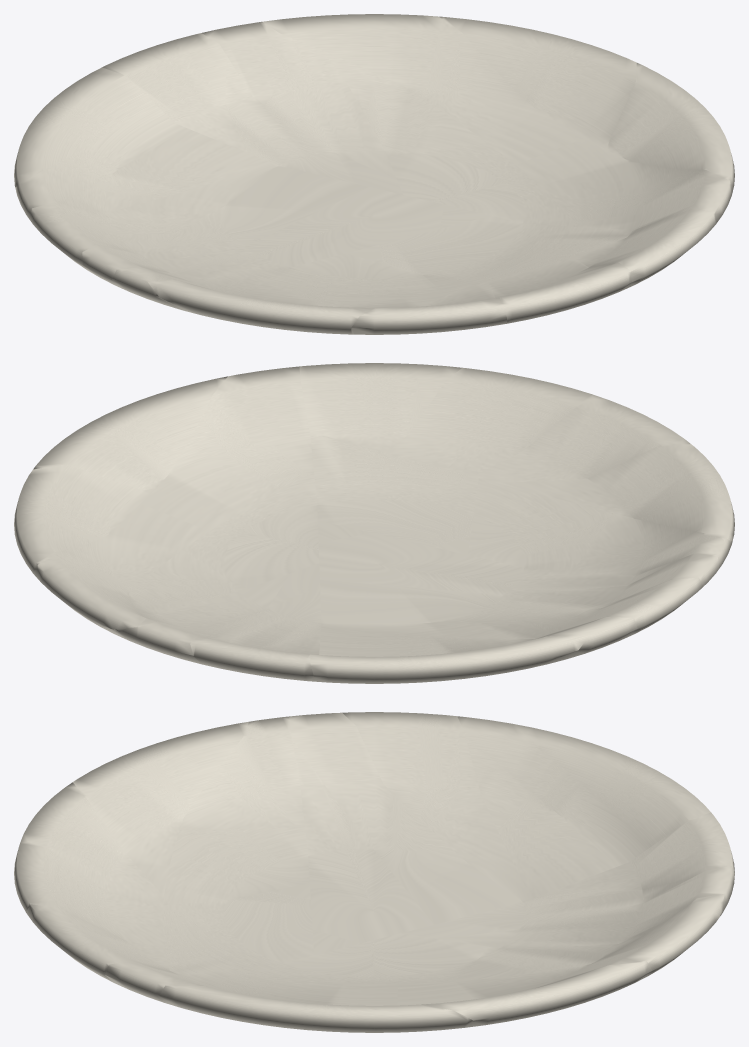
File: fragments.glb
3 views of the same model, one above another, from view 1: azimuth 30°, elevation 25°; view 2: azimuth 150°, elevation 25°; view 3: azimuth 270°, elevation 25° (orthographic).
Parts seen in each view (by area): view 1: fragment-006-ivory, fragment-008-ivory, fragment-002-ivory, fragment-005-ivory, fragment-004-ivory, fragment-018-ivory, fragment-015-ivory, fragment-003-ivory, fragment-009-ivory, fragment-020-ivory, fragment-017-ivory, fragment-007-ivory (+12 smaller); view 2: fragment-005-ivory, fragment-012-ivory, fragment-004-ivory, fragment-000-ivory, fragment-018-ivory, fragment-006-ivory, fragment-009-ivory, fragment-013-ivory, fragment-010-ivory, fragment-001-ivory, fragment-015-ivory, fragment-008-ivory (+12 smaller); view 3: fragment-004-ivory, fragment-003-ivory, fragment-000-ivory, fragment-018-ivory, fragment-010-ivory, fragment-011-ivory, fragment-007-ivory, fragment-017-ivory, fragment-016-ivory, fragment-009-ivory, fragment-015-ivory, fragment-006-ivory (+12 smaller).
Boxes of the visible parts, x1,y1,x2,y2 form: fragment-006-ivory: [262, 14, 584, 164]; fragment-008-ivory: [439, 16, 636, 150]; fragment-002-ivory: [202, 21, 396, 178]; fragment-005-ivory: [516, 138, 732, 230]; fragment-004-ivory: [82, 165, 368, 288]; fragment-018-ivory: [147, 187, 444, 280]; fragment-015-ivory: [387, 143, 575, 226]; fragment-003-ivory: [30, 162, 277, 272]; fragment-009-ivory: [608, 63, 734, 192]; fragment-020-ivory: [102, 33, 247, 152]; fragment-017-ivory: [14, 67, 156, 187]; fragment-007-ivory: [59, 128, 269, 212]; fragment-005-ivory: [141, 366, 313, 531]; fragment-012-ivory: [386, 367, 598, 476]; fragment-004-ivory: [320, 554, 719, 623]; fragment-000-ivory: [496, 444, 734, 541]; fragment-018-ivory: [318, 533, 683, 595]; fragment-006-ivory: [37, 504, 208, 629]; fragment-009-ivory: [33, 376, 227, 490]; fragment-013-ivory: [299, 363, 461, 452]; fragment-010-ivory: [467, 478, 612, 571]; fragment-001-ivory: [473, 396, 690, 482]; fragment-015-ivory: [183, 473, 319, 588]; fragment-008-ivory: [14, 464, 155, 577]; fragment-004-ivory: [289, 712, 523, 924]; fragment-003-ivory: [342, 712, 532, 901]; fragment-000-ivory: [72, 721, 248, 896]; fragment-018-ivory: [292, 739, 433, 943]; fragment-010-ivory: [163, 827, 309, 905]; fragment-011-ivory: [180, 716, 304, 829]; fragment-007-ivory: [466, 738, 616, 898]; fragment-017-ivory: [514, 724, 710, 846]; fragment-016-ivory: [457, 716, 649, 866]; fragment-009-ivory: [159, 985, 472, 1032]; fragment-015-ivory: [234, 933, 488, 983]; fragment-006-ivory: [397, 893, 724, 1005].
Bounding box in the file's own units: 0.25 × 0.026 × 0.25.
Materials: 2 (2 with a texture image).
